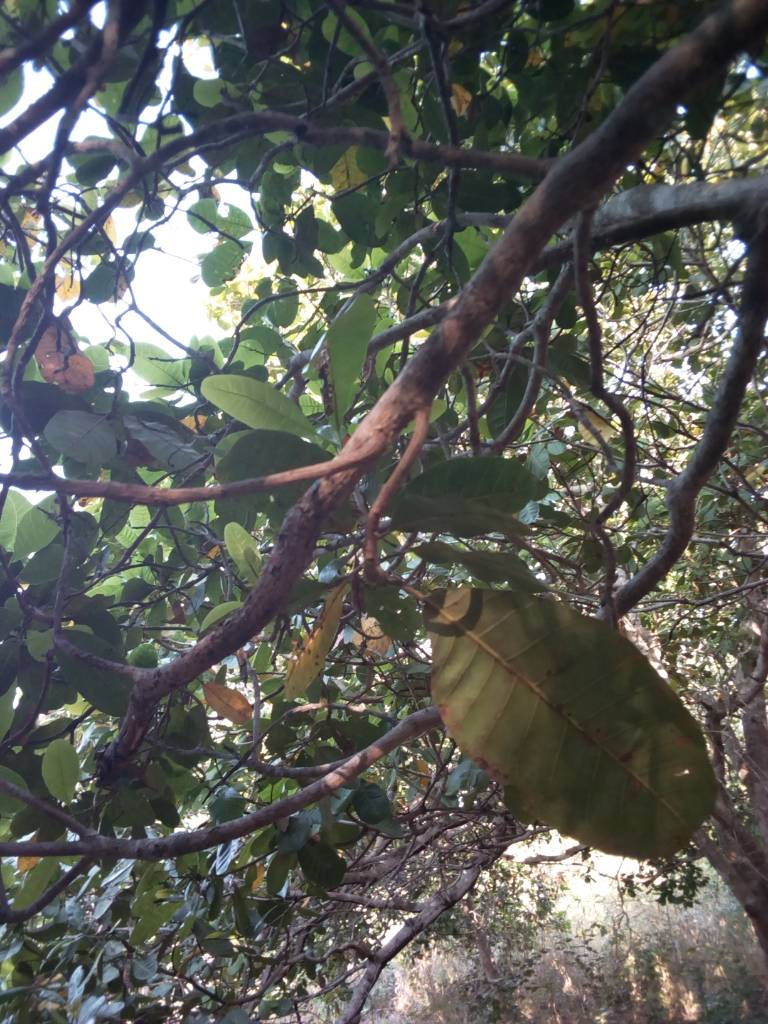Anthracnose: (433, 594, 715, 850), (271, 583, 357, 705)
